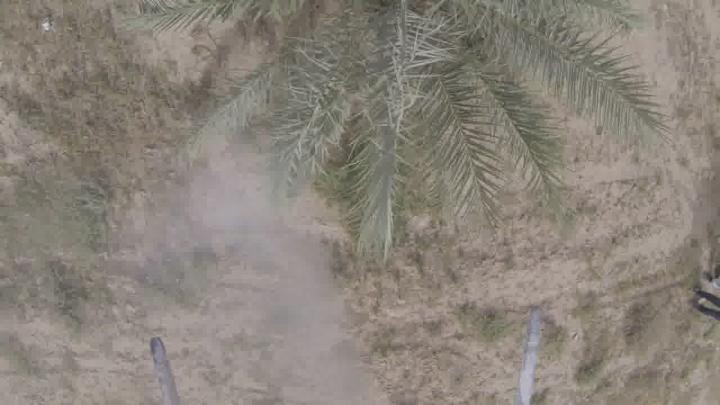Date-Palm-Crown: (218, 1, 548, 182)
